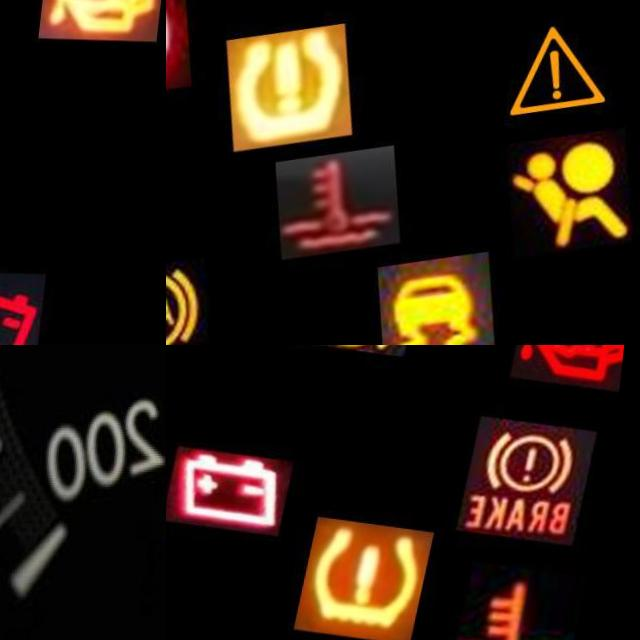Central Warning lamp: (488, 0, 637, 134)
Engine cooling system: (277, 140, 421, 260), (457, 557, 598, 640)
